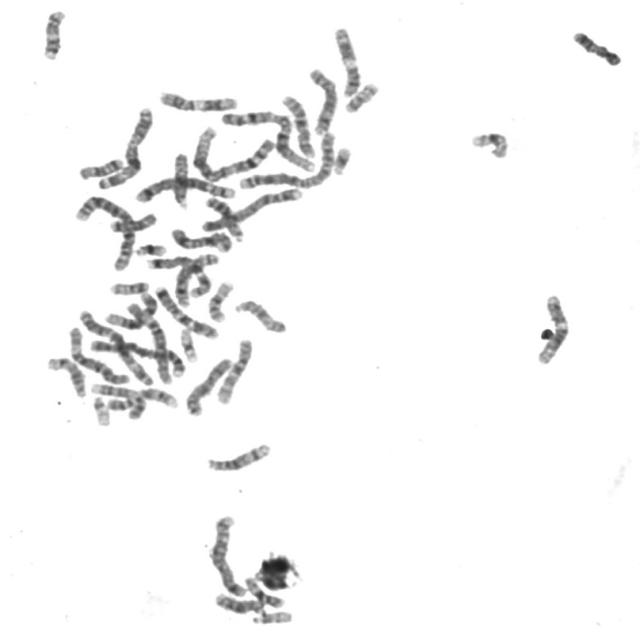A1: (217, 104, 318, 174), (190, 121, 278, 182)
A2: (234, 126, 340, 191), (70, 190, 138, 273)
A3: (74, 304, 158, 386), (94, 101, 157, 190)
B4: (198, 182, 306, 234), (87, 334, 185, 378)
B5: (206, 509, 249, 598), (130, 171, 239, 203)
C10: (213, 333, 257, 406), (277, 89, 318, 159)
C11: (330, 22, 364, 98), (155, 85, 241, 113)
C12: (532, 290, 572, 366), (101, 288, 160, 330)
C6: (122, 298, 177, 385), (64, 320, 132, 386)
C7: (150, 281, 222, 340), (142, 252, 214, 299)
C8: (168, 250, 224, 308), (304, 62, 342, 136)
C9: (86, 378, 148, 421), (102, 383, 181, 413)
D13: (201, 192, 247, 242), (211, 589, 267, 615)
D14: (203, 438, 275, 473), (44, 351, 90, 399)
D15: (230, 294, 290, 335), (170, 148, 192, 210)
E16: (240, 572, 287, 610), (204, 276, 236, 324)
E17: (570, 28, 623, 72), (38, 4, 69, 62)
E18: (75, 152, 127, 181), (105, 208, 160, 234)
F19: (465, 130, 516, 164), (175, 322, 202, 363)
F20: (342, 76, 382, 114), (106, 276, 152, 296)
G21: (329, 141, 355, 176), (132, 238, 170, 258)
G22: (250, 606, 296, 626), (88, 391, 113, 427)
X: (181, 353, 236, 418), (167, 223, 235, 253)
